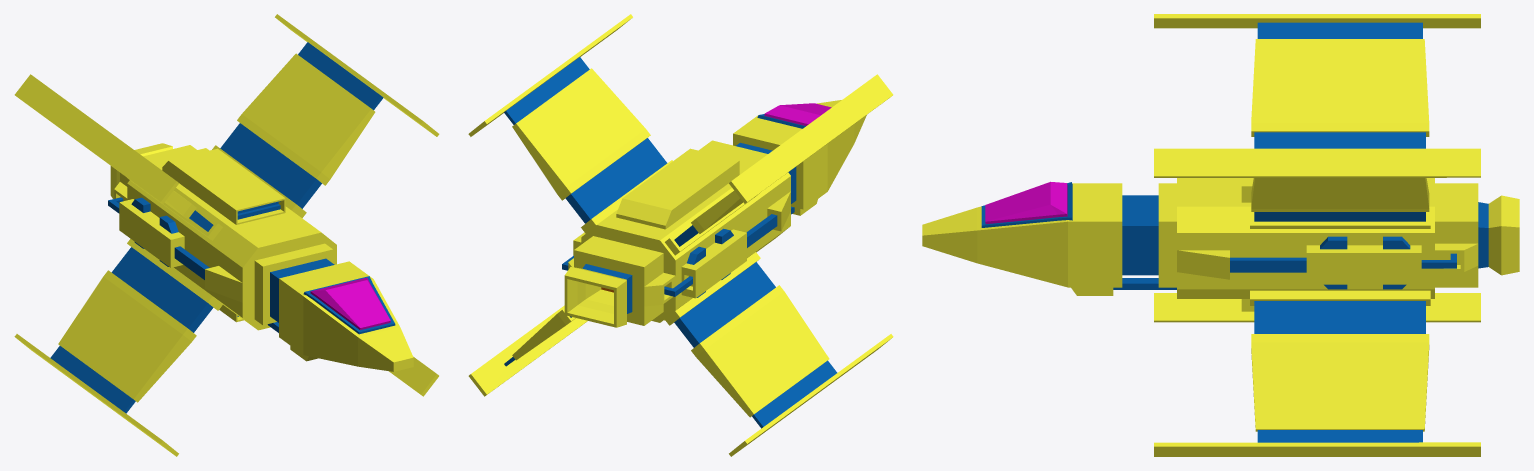
File: EnemyShip1V2.fbx
3 views of the same model, side by side, from view 1: azimuth 30°, elevation 25°; view 2: azimuth 150°, elevation 25°; view 3: azimuth 270°, elevation 25° (orthographic). The views are drawn at different scales.
Parts seen in each view (by area): view 1: Fighter_2; view 2: Fighter_2; view 3: Fighter_2.
Boxes of the visible parts, x1=… form: Fighter_2: x1=14, y1=14, x2=439, y2=456; Fighter_2: x1=468, y1=14, x2=893, y2=456; Fighter_2: x1=922, y1=14, x2=1519, y2=456.
Size of the model in its own units: 39.68 by 37.49 by 65.8.
